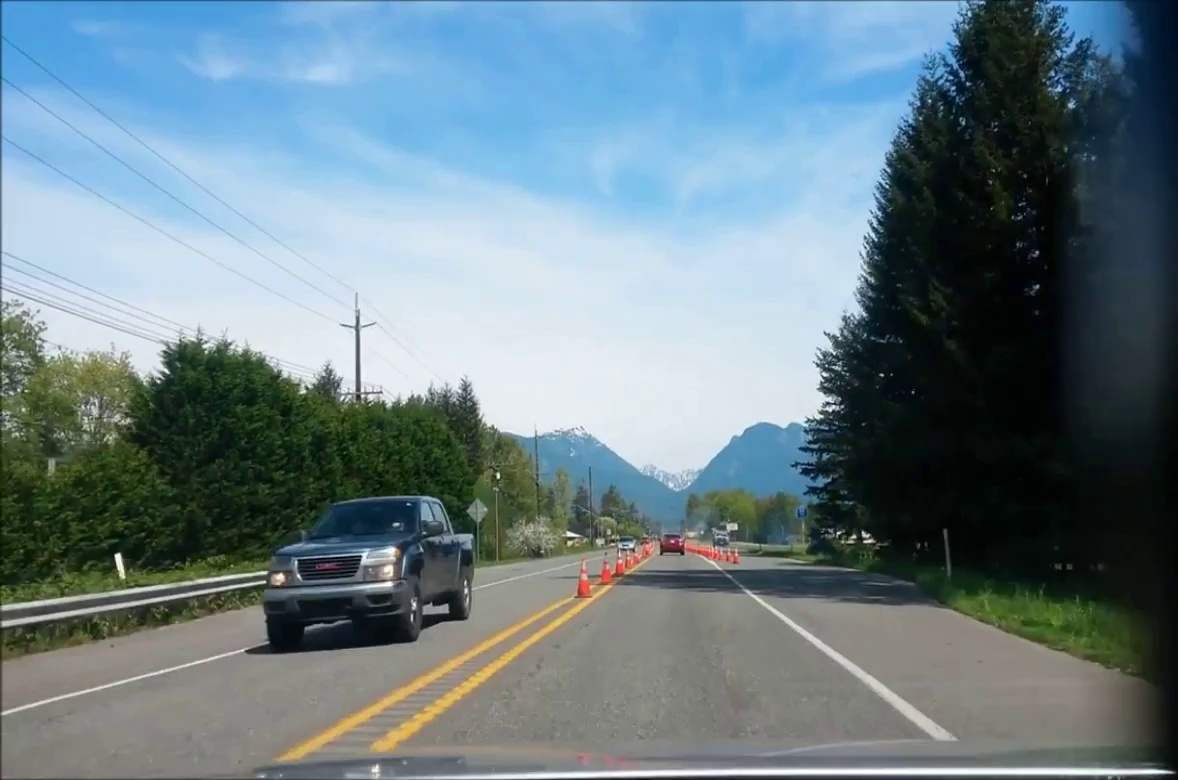Cone: (596, 544, 618, 588), (576, 559, 593, 601)
